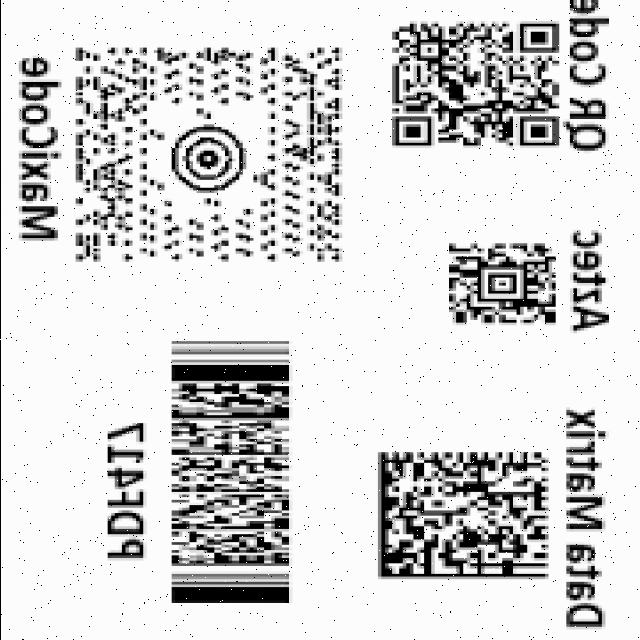datamatrix: (363, 442, 558, 587)
